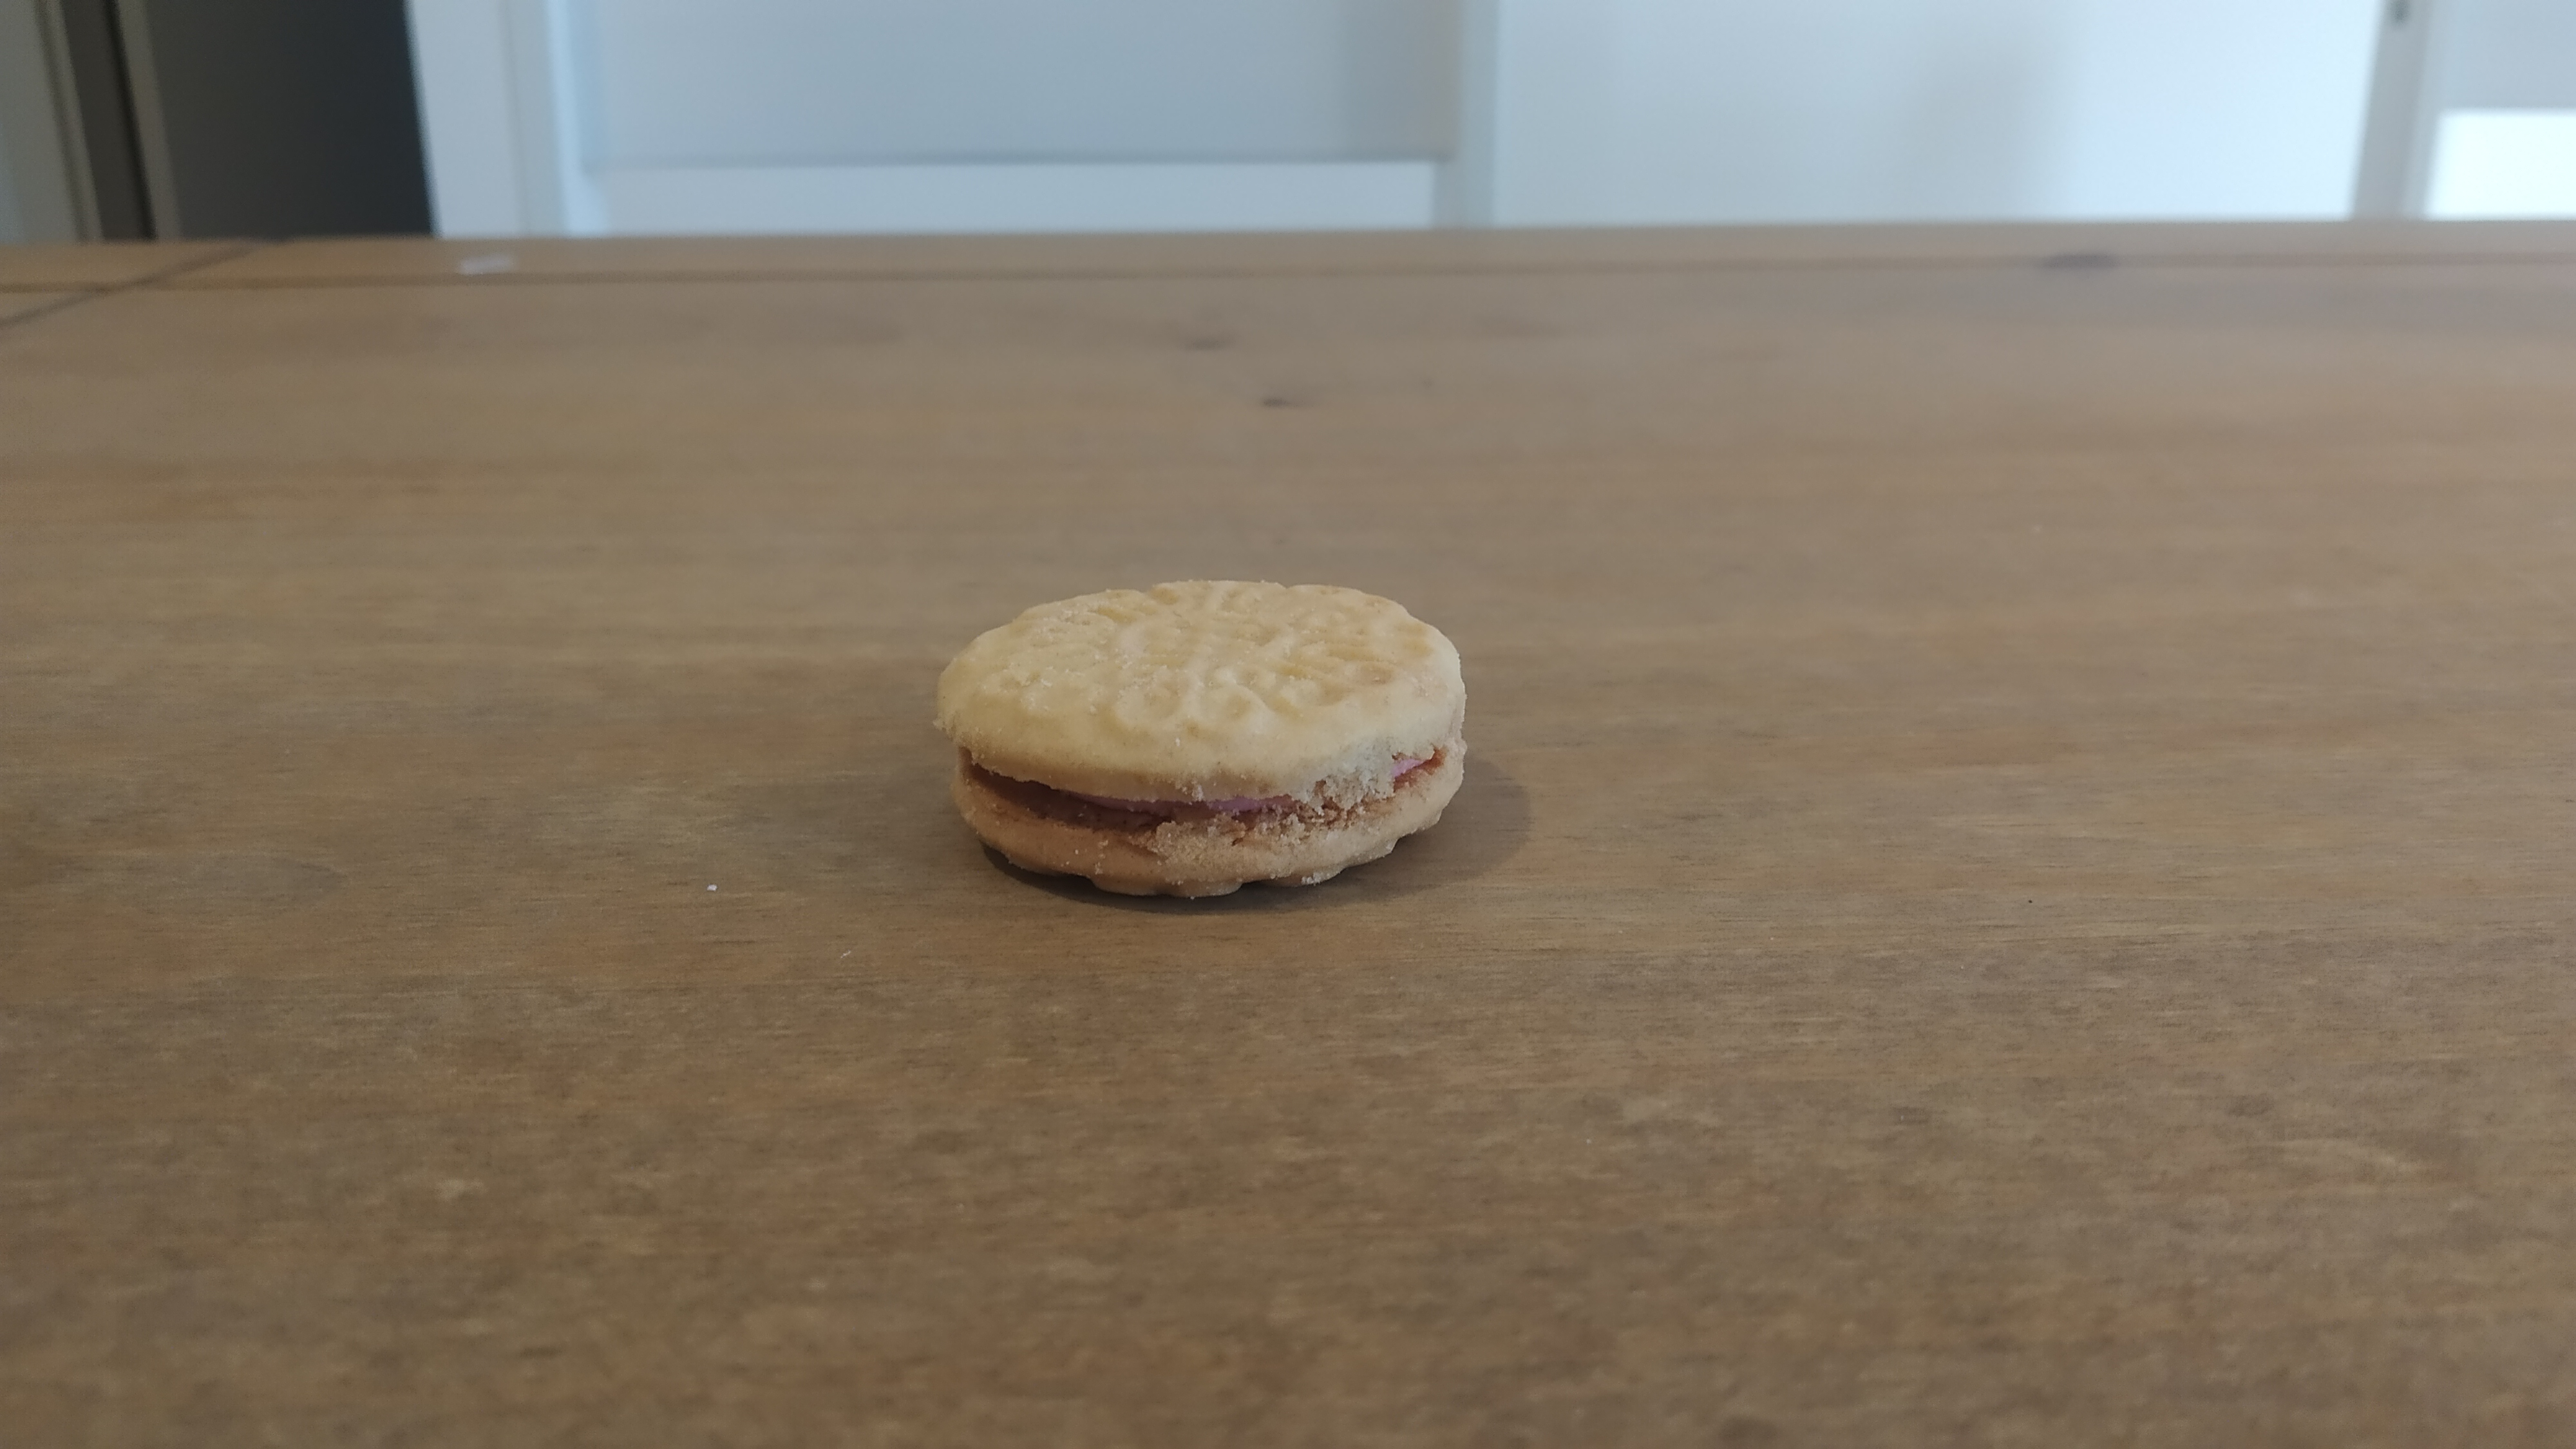lulu: (939, 571, 1465, 901)
